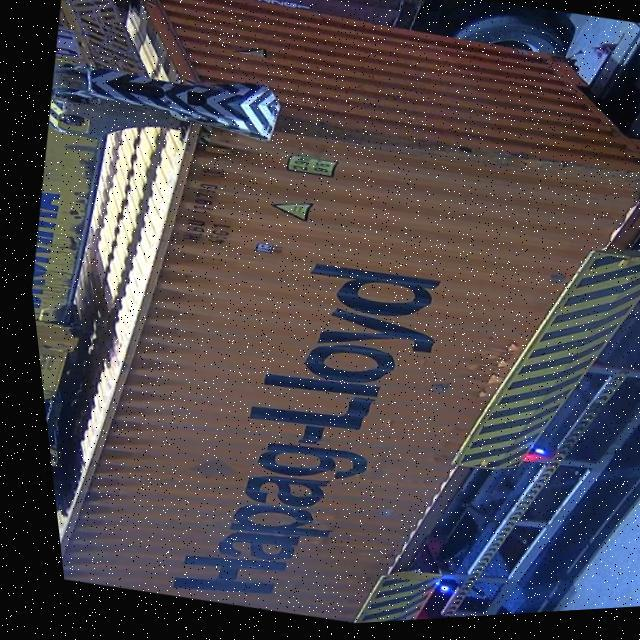rust: (273, 95, 640, 222)
